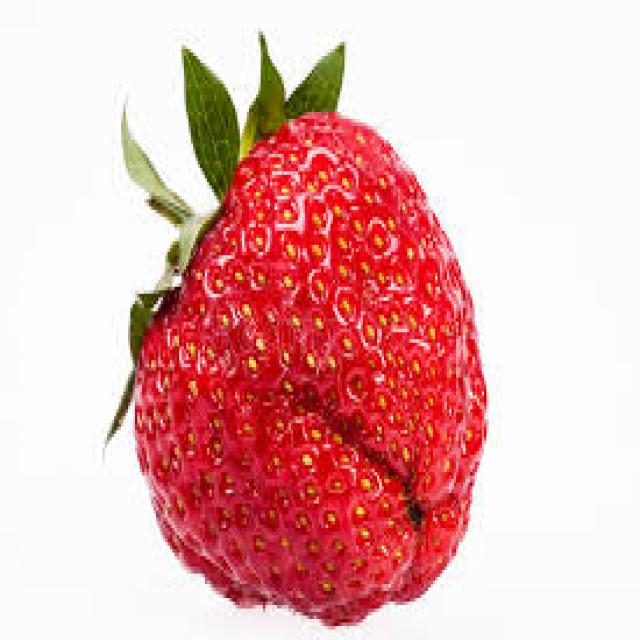organic waste: (105, 38, 484, 622)
